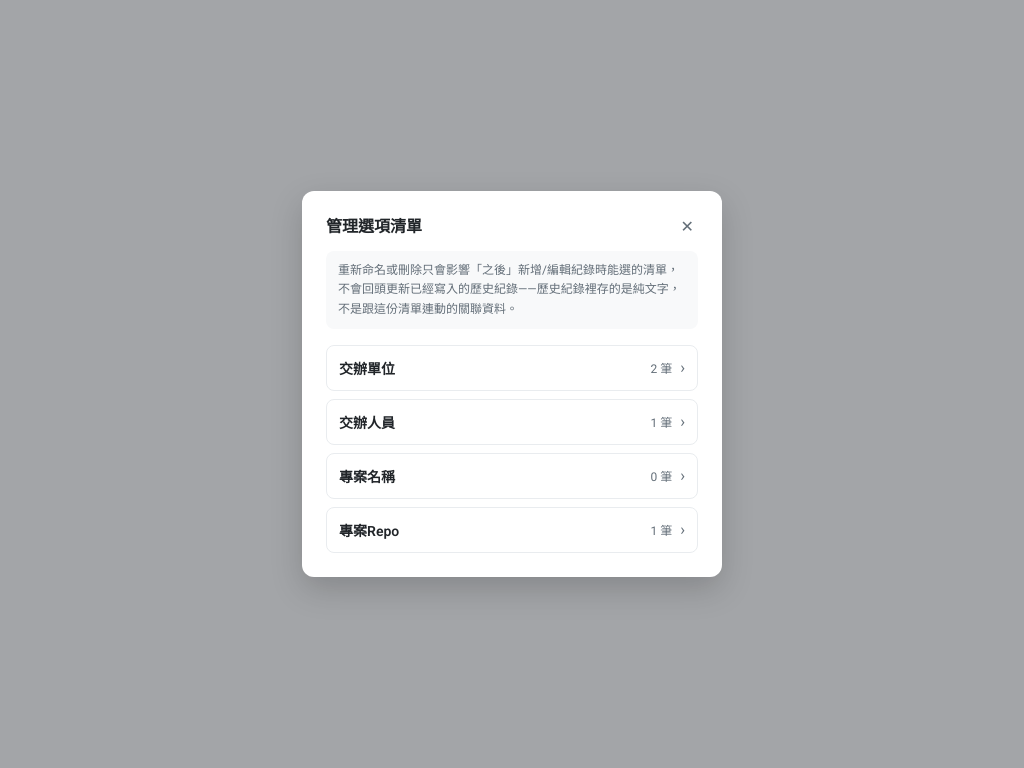
Test: 導覽 › 沒有值時顯示「尚無資料」
This screenshot has width=1024, height=768.
Step 1. Click the button "專案名稱 0 筆 ›" → click(367, 477), box [326,453,698,499]
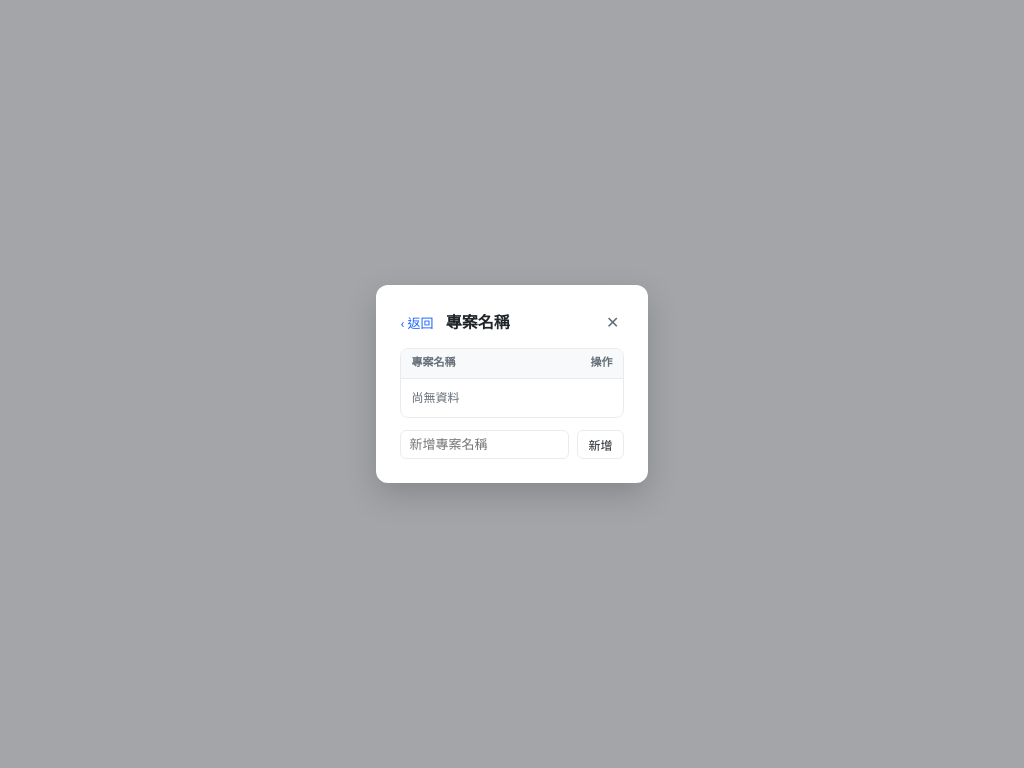
Expected: the text "尚無資料" is shown, [412,391,460,405]
